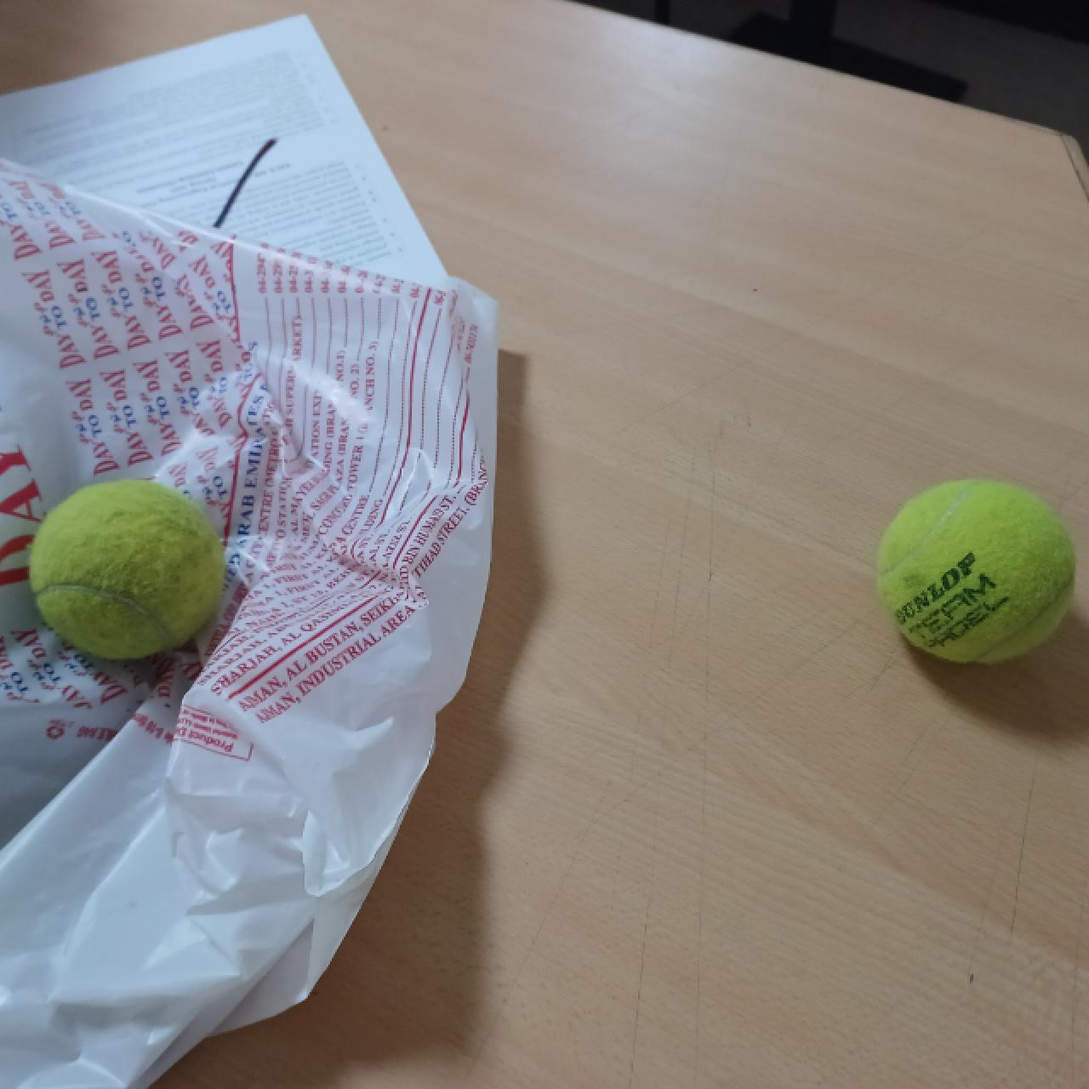tennis-ball: (876, 478, 1077, 667), (30, 479, 227, 663)
